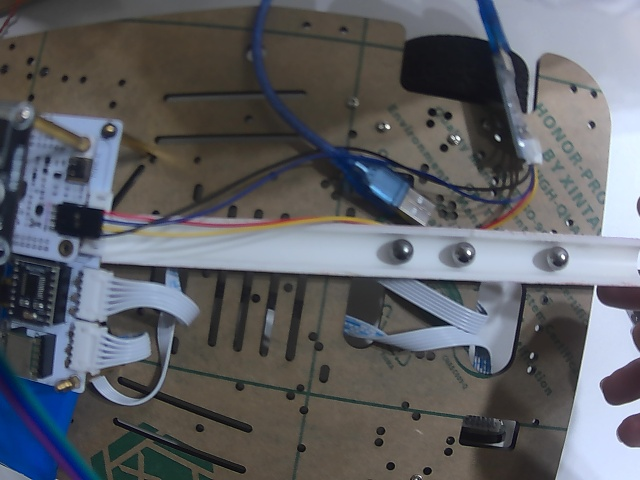steelball: (390, 239, 414, 263), (451, 242, 475, 266), (545, 247, 569, 270)
